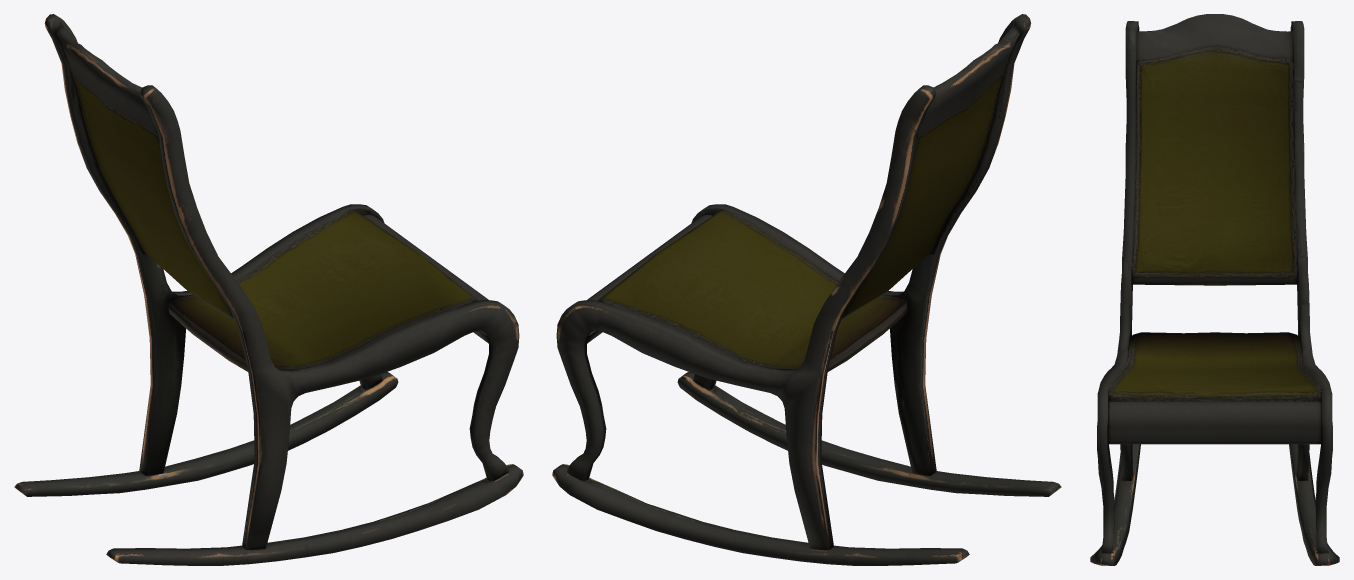
Rendered from rocking_1.glb.
3 views of the same model, side by side, from view 1: azimuth 30°, elevation 25°; view 2: azimuth 150°, elevation 25°; view 3: azimuth 270°, elevation 25° (orthographic). The views are drawn at different scales.
Parts seen in each view (by area): view 1: tripo_node_2c9af046-f5e8-41a1-9754-7e1f9ea8394f; view 2: tripo_node_2c9af046-f5e8-41a1-9754-7e1f9ea8394f; view 3: tripo_node_2c9af046-f5e8-41a1-9754-7e1f9ea8394f.
Boxes of the visible parts, x1,y1,x2,y2 form: tripo_node_2c9af046-f5e8-41a1-9754-7e1f9ea8394f: [14, 14, 523, 565]; tripo_node_2c9af046-f5e8-41a1-9754-7e1f9ea8394f: [552, 14, 1061, 565]; tripo_node_2c9af046-f5e8-41a1-9754-7e1f9ea8394f: [1090, 14, 1339, 565].
Bounding box in the file's own units: 0.8184 × 0.998 × 0.5254.
1 material, 1 textured.
